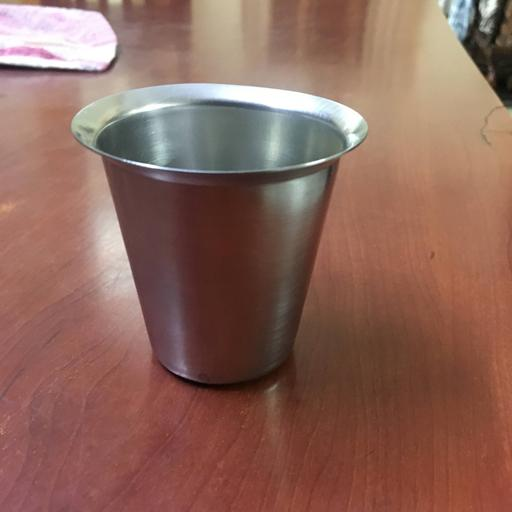glass-tumbler: (71, 84, 368, 389)
